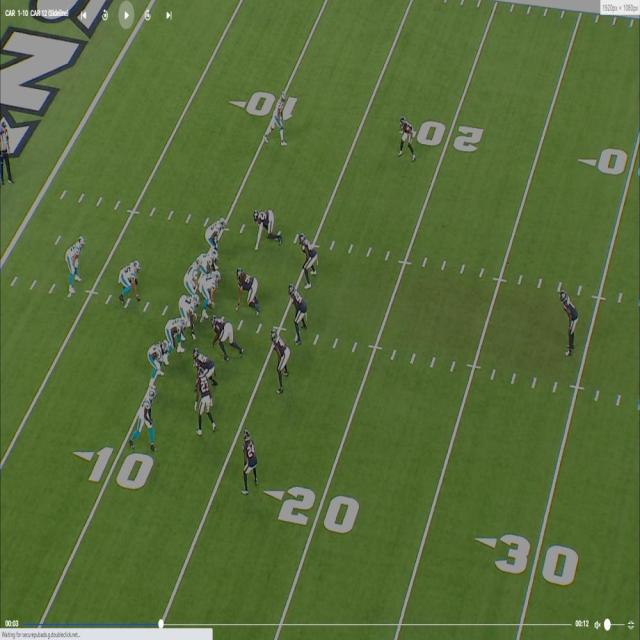center: (202, 275, 220, 314)
db: (563, 292, 579, 357), (200, 372, 215, 437), (245, 432, 259, 488), (400, 117, 415, 162)
lb: (292, 285, 310, 342), (273, 333, 291, 388), (299, 235, 317, 283), (66, 238, 84, 286)
qb: (182, 255, 200, 293)
skill: (134, 381, 154, 436), (268, 102, 290, 146), (119, 256, 138, 306), (148, 340, 168, 378)
